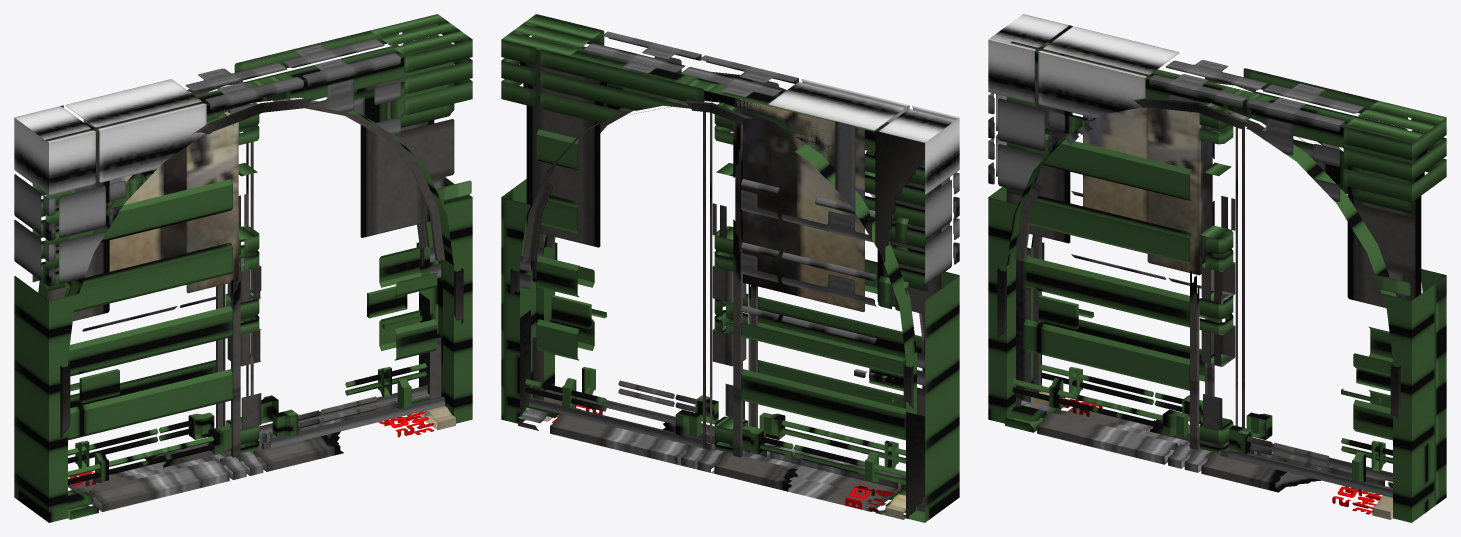
Rendered from large_vehicle_door_clean.obj.
3 renders of one model, left to right at view 1: azimuth 30°, elevation 25°; view 2: azimuth 150°, elevation 25°; view 3: azimuth 330°, elevation 25°, orthographic.
Parts seen in each view (by area): view 1: frame, doorLeft, doorRight; view 2: frame, doorLeft, doorRight; view 3: frame, doorLeft, doorRight.
Part boxes in pixels (x1,y1,x2,y2): frame: [14, 14, 472, 522]; doorLeft: [45, 109, 259, 484]; doorRight: [227, 78, 444, 449]; frame: [501, 14, 959, 522]; doorLeft: [714, 98, 941, 487]; doorRight: [520, 49, 746, 449]; frame: [988, 14, 1446, 522]; doorLeft: [1006, 73, 1233, 457]; doorRight: [1201, 112, 1427, 497].
Bounding box in the file's own units: 7 × 6 × 1.13.
